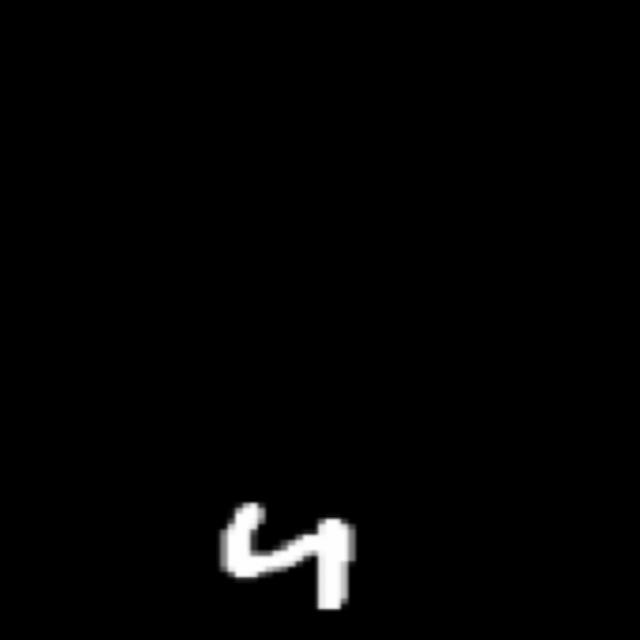four -4-: (200, 472, 380, 622)
